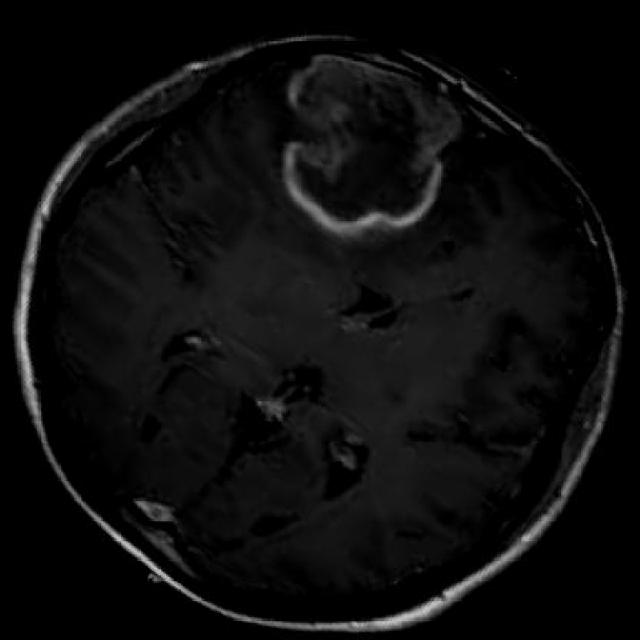Brain-Tumor: (266, 36, 463, 236)
